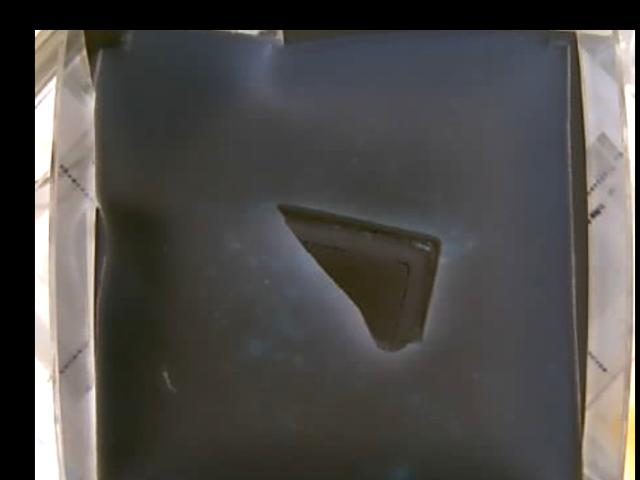China: (272, 202, 443, 354)
